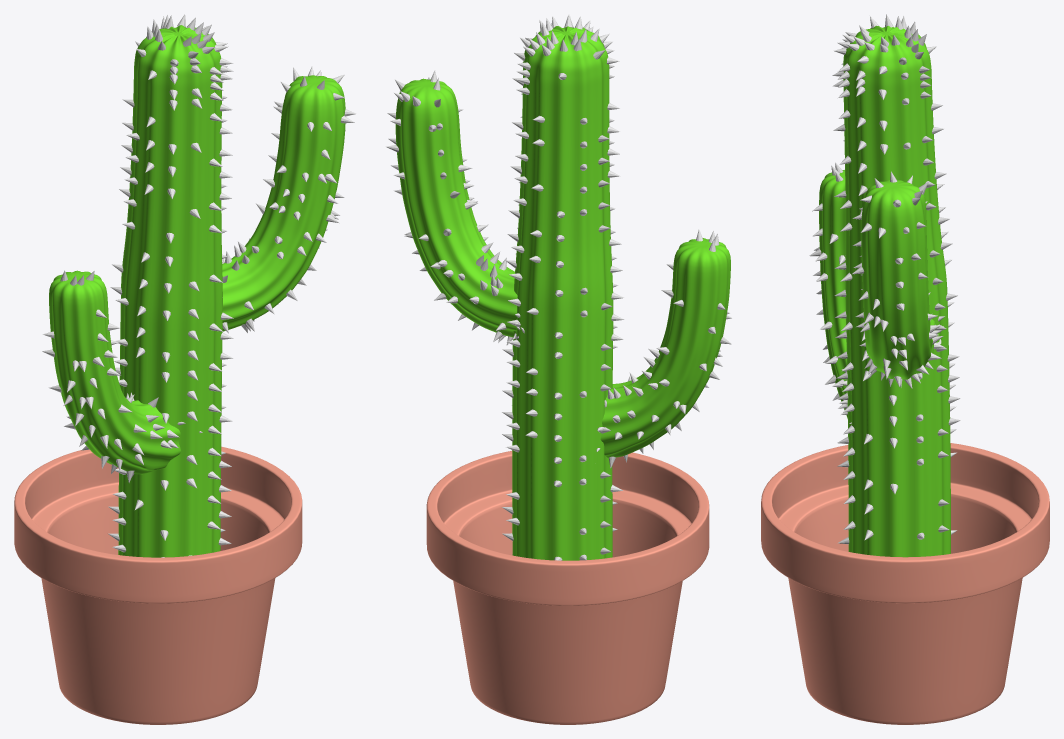
Rendered from week4.fbx.
3 renders of one model, left to right at view 1: azimuth 30°, elevation 25°; view 2: azimuth 150°, elevation 25°; view 3: azimuth 270°, elevation 25°, orthographic. The views are drawn at different scales.
Parts seen in each view (by area): view 1: Cylinder.006, BezierCurve, BezierCurve.001, BezierCurve.003; view 2: Cylinder.006, BezierCurve, BezierCurve.001, BezierCurve.003; view 3: Cylinder.006, BezierCurve, BezierCurve.001, BezierCurve.003.
Part boxes in pixels (x1,y1,x2,y2): Cylinder.006: (14,446,302,724); BezierCurve: (118,25,222,557); BezierCurve.001: (222,75,345,331); BezierCurve.003: (49,270,180,474); Cylinder.006: (426,451,709,724); BezierCurve: (512,26,613,560); BezierCurve.001: (395,78,517,337); BezierCurve.003: (600,238,730,457); Cylinder.006: (761,443,1049,724); BezierCurve: (843,25,950,557); BezierCurve.001: (861,180,934,379); BezierCurve.003: (819,170,847,418).
Size of the model in its own units: 27.81 by 54.47 by 21.43.
